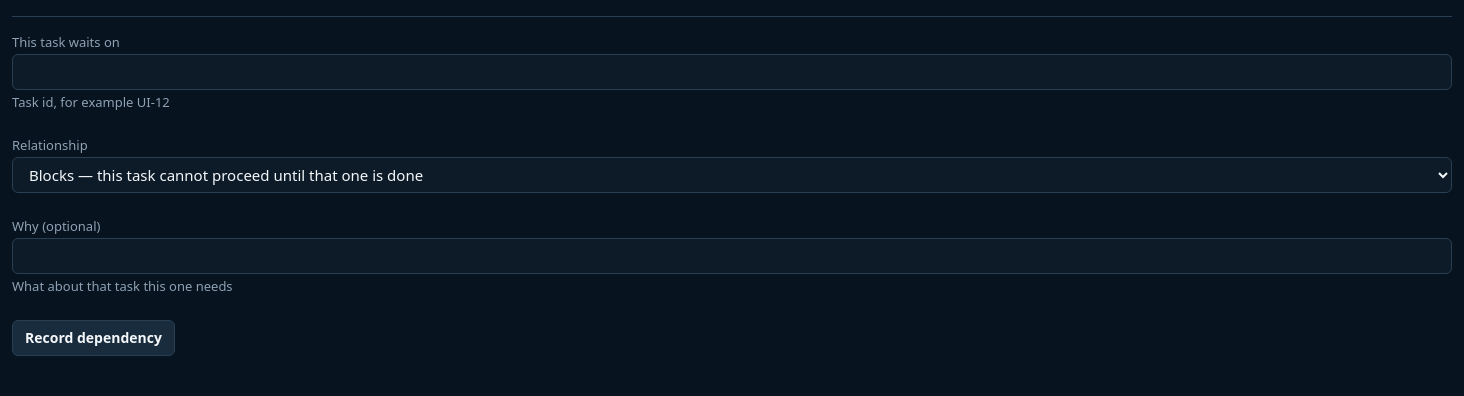
Test: DependencyForm › refuses an empty target and says why
Click the button "Record dependency" at coordinates (93, 338), box [12,320,175,356]
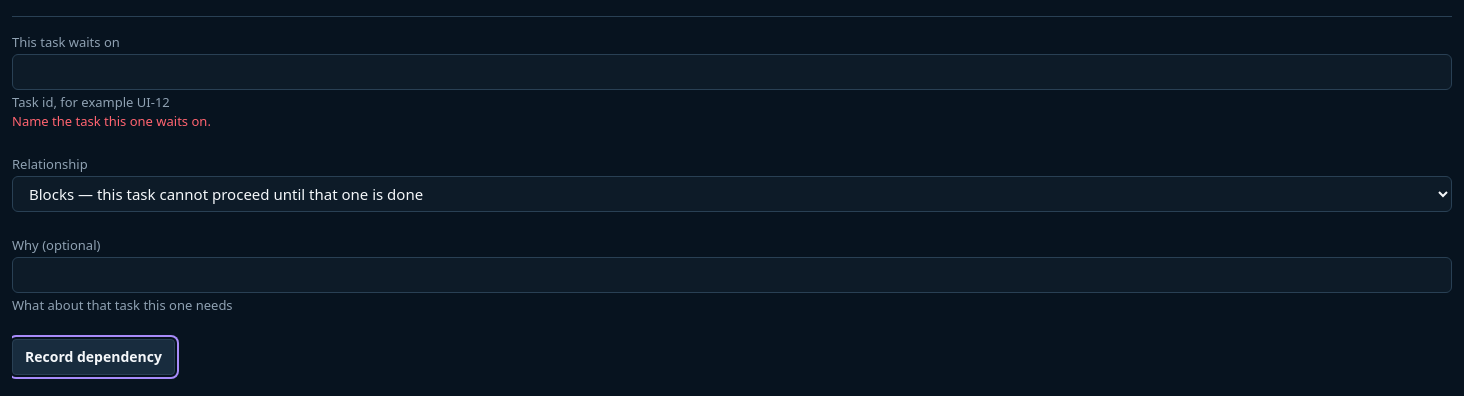
Expected: the message shows "Name the task", [12,112,211,130]
